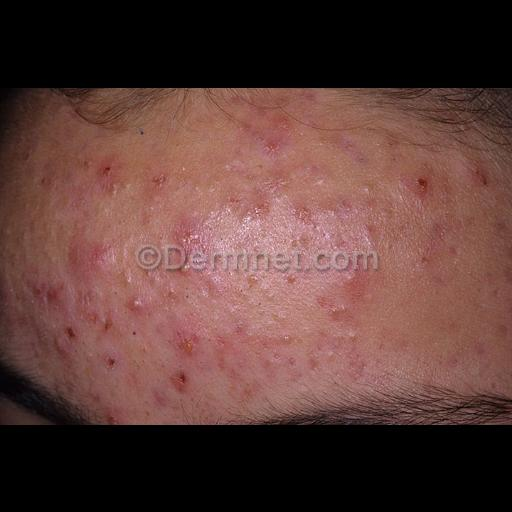Skin_Lesion: (311, 194, 379, 256), (225, 190, 287, 234), (36, 273, 70, 313), (71, 246, 111, 278), (192, 266, 226, 300), (256, 122, 290, 156), (172, 322, 200, 358), (144, 170, 172, 204), (176, 224, 206, 254), (406, 165, 434, 197), (274, 322, 302, 354), (126, 288, 150, 314), (100, 348, 124, 374), (35, 164, 59, 190), (470, 164, 492, 192), (172, 367, 192, 395), (244, 271, 262, 299), (61, 324, 81, 346), (172, 257, 192, 279), (99, 158, 117, 180), (102, 311, 118, 335), (285, 270, 301, 292), (154, 386, 170, 408), (108, 408, 124, 424), (92, 390, 104, 406), (490, 378, 500, 392)
